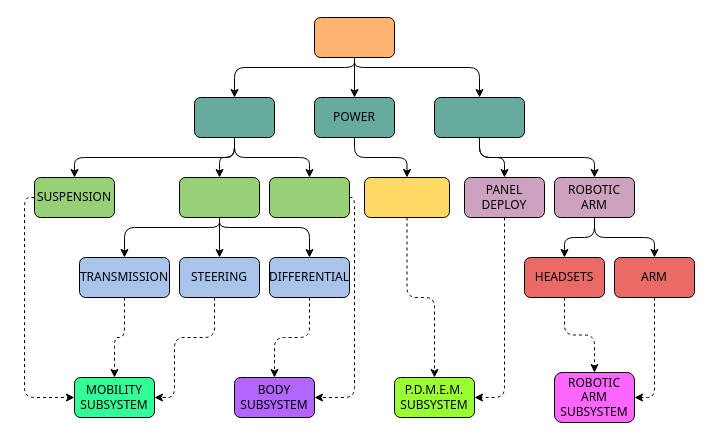
The diagram is 712 pixels wide and 440 high, and some of its shapes have lost their labels. Each missing label, with the box of its shape:
AUTOMATIONS: (434, 96, 524, 138)
BODY: (268, 176, 350, 218)
DIRECTION: (178, 176, 260, 218)
ENERGY MANAGEMENT: (364, 176, 450, 218)
MOBILITY: (194, 96, 274, 138)
ROVER: (314, 16, 394, 58)
